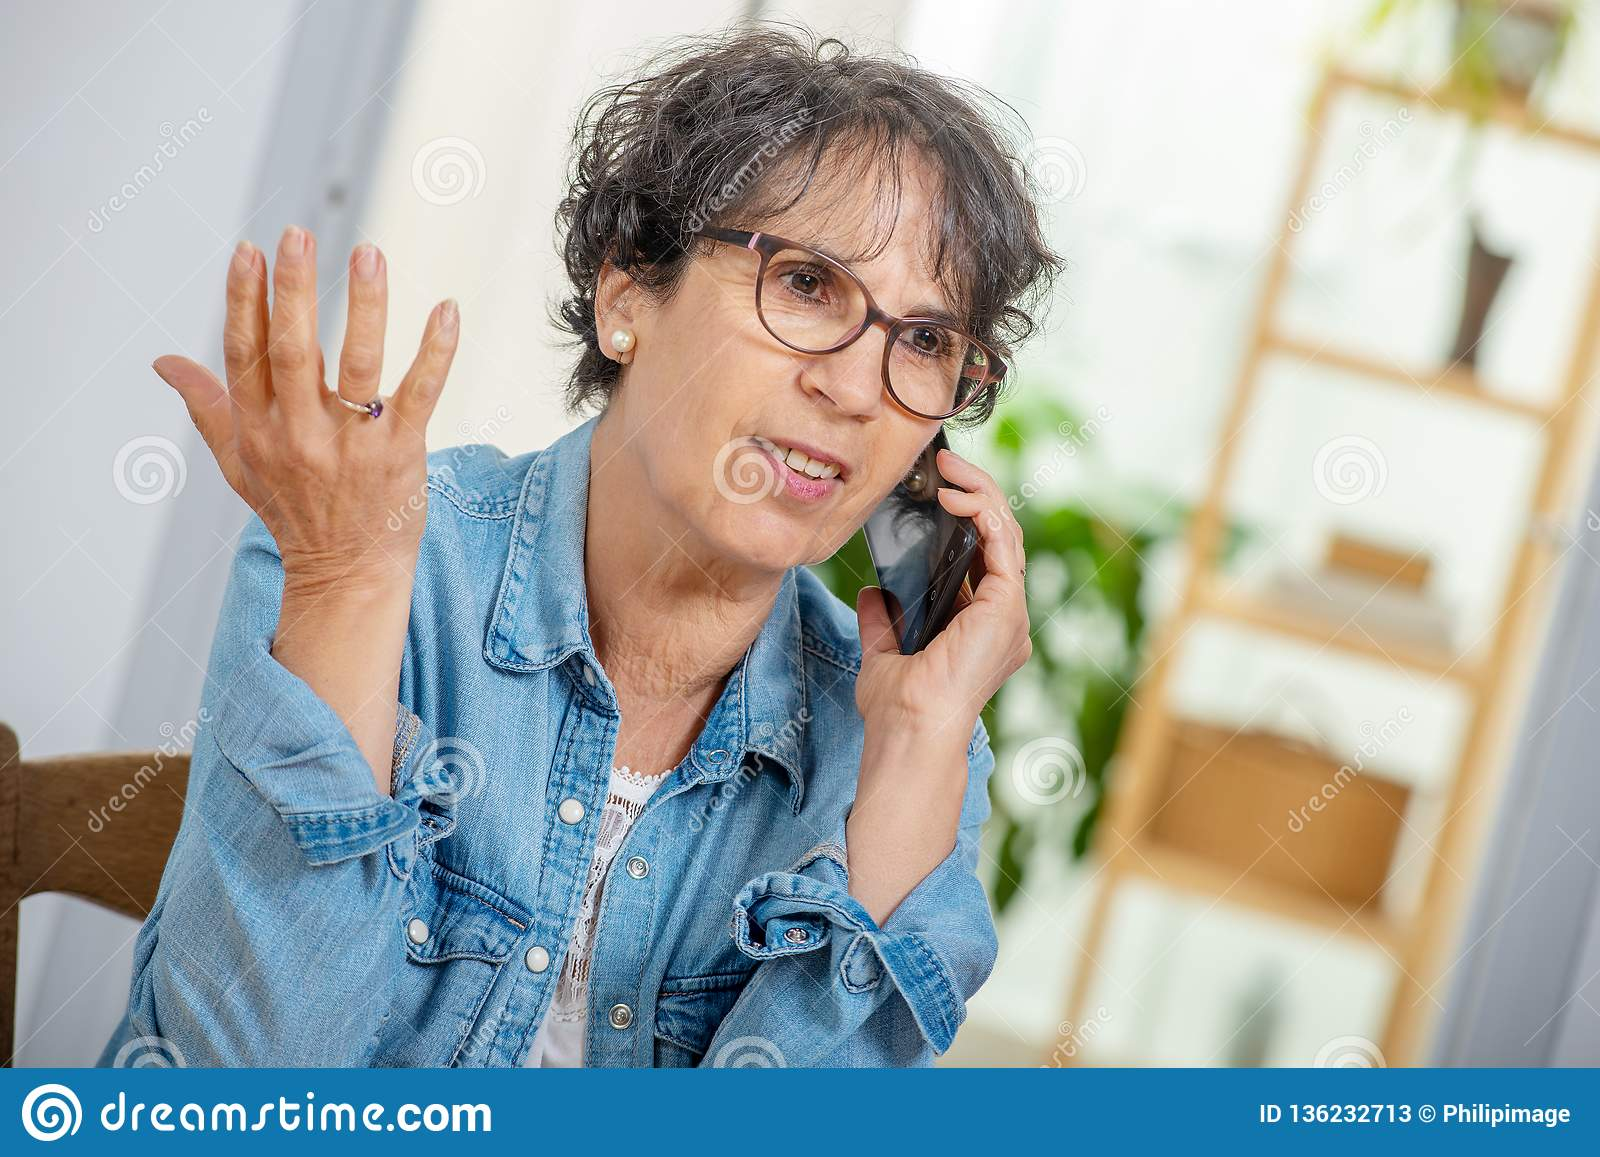phone: (860, 411, 990, 655)
talk: (691, 231, 1037, 767)
